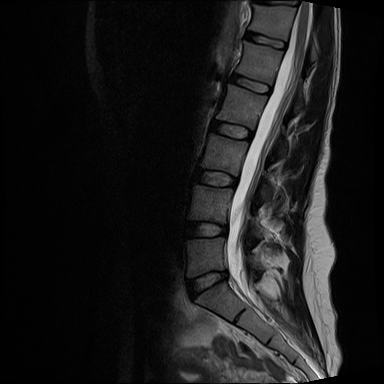Lumbar Disc Bulge (LDB): (178, 266, 232, 305)
Normal IVD: (225, 66, 276, 102), (205, 113, 256, 145), (237, 25, 291, 55), (187, 162, 241, 192), (182, 216, 233, 243)
